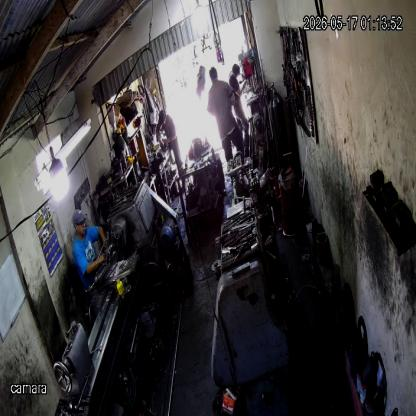lentes: (74, 218, 86, 230)
